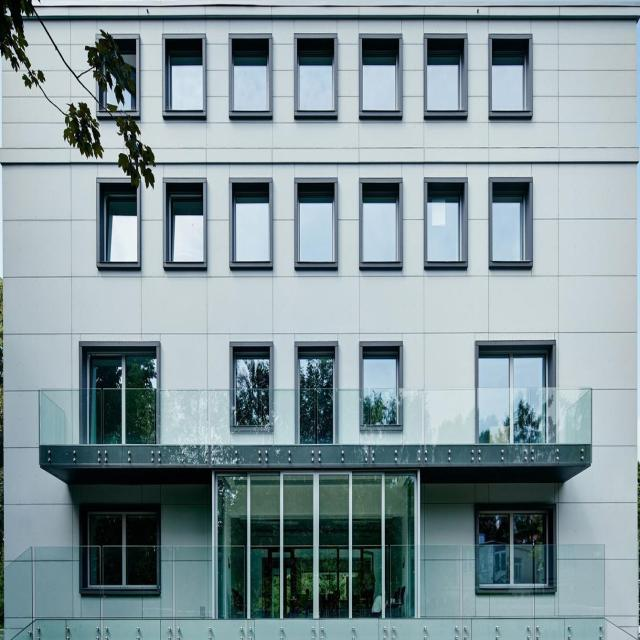door: (216, 468, 423, 619)
railing: (0, 542, 607, 639), (35, 387, 592, 444)
window: (89, 346, 160, 440), (82, 508, 156, 591), (482, 351, 550, 441), (478, 510, 551, 590), (299, 355, 334, 443), (233, 347, 270, 427), (363, 347, 401, 423), (295, 45, 330, 111), (233, 45, 268, 111), (233, 192, 268, 257), (428, 193, 462, 259), (300, 194, 334, 260), (423, 44, 457, 110), (106, 46, 140, 112), (106, 192, 140, 258), (494, 197, 524, 264), (367, 198, 397, 265), (489, 48, 519, 115), (361, 49, 391, 116), (172, 50, 202, 117), (172, 196, 202, 263)
